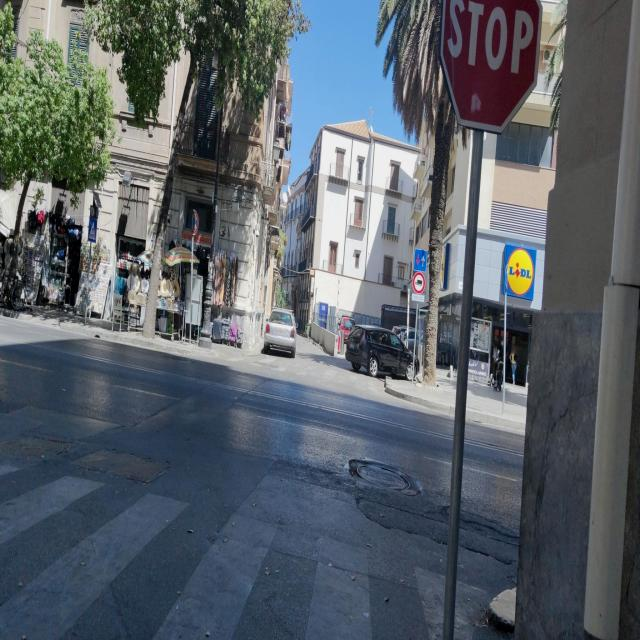bike: (492, 356, 504, 396)
car: (344, 324, 412, 378), (262, 308, 296, 358), (392, 326, 424, 352)
